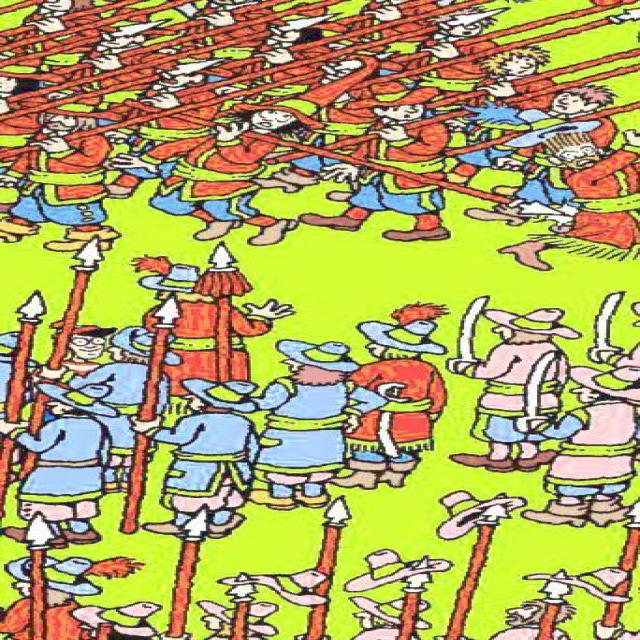waldo: (47, 319, 116, 360)
